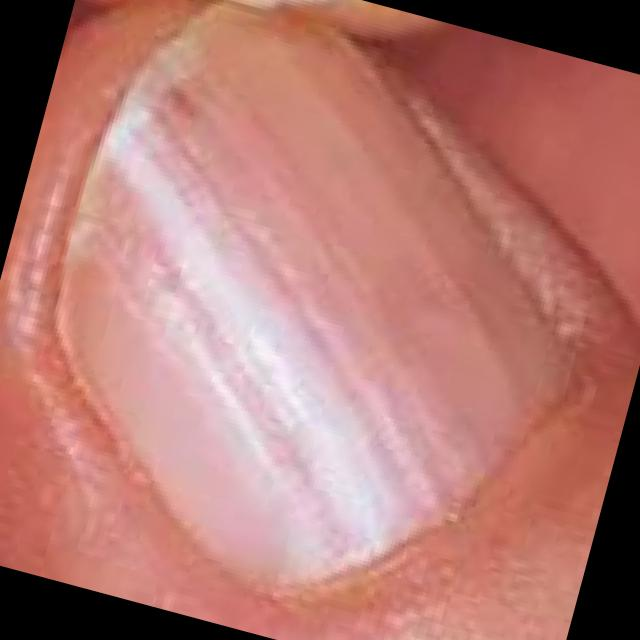Nail: (55, 3, 580, 595)
